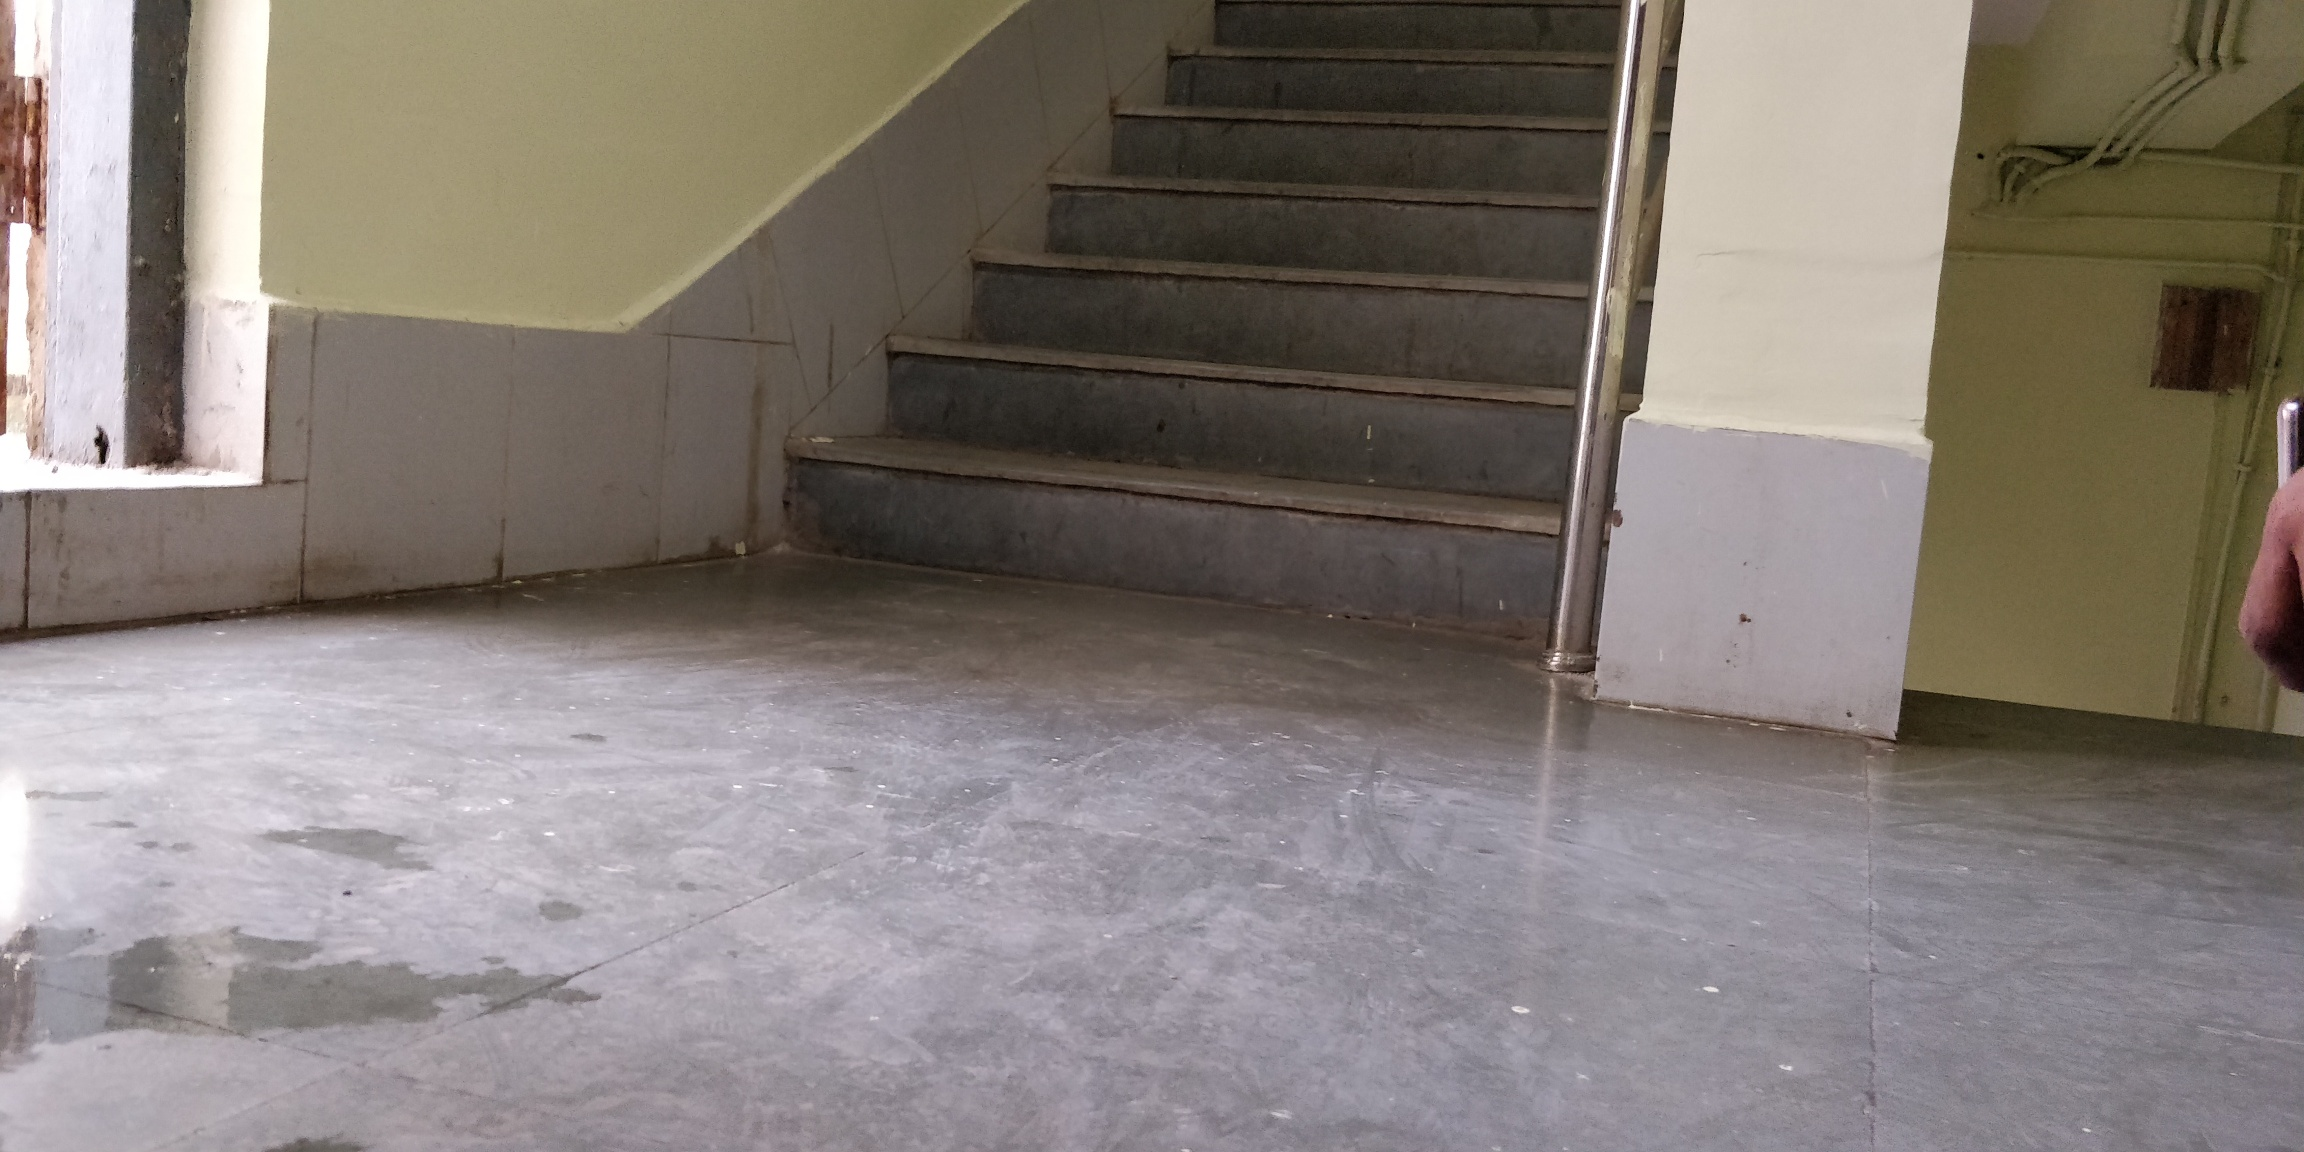stairs_up: (785, 40, 1594, 601)
